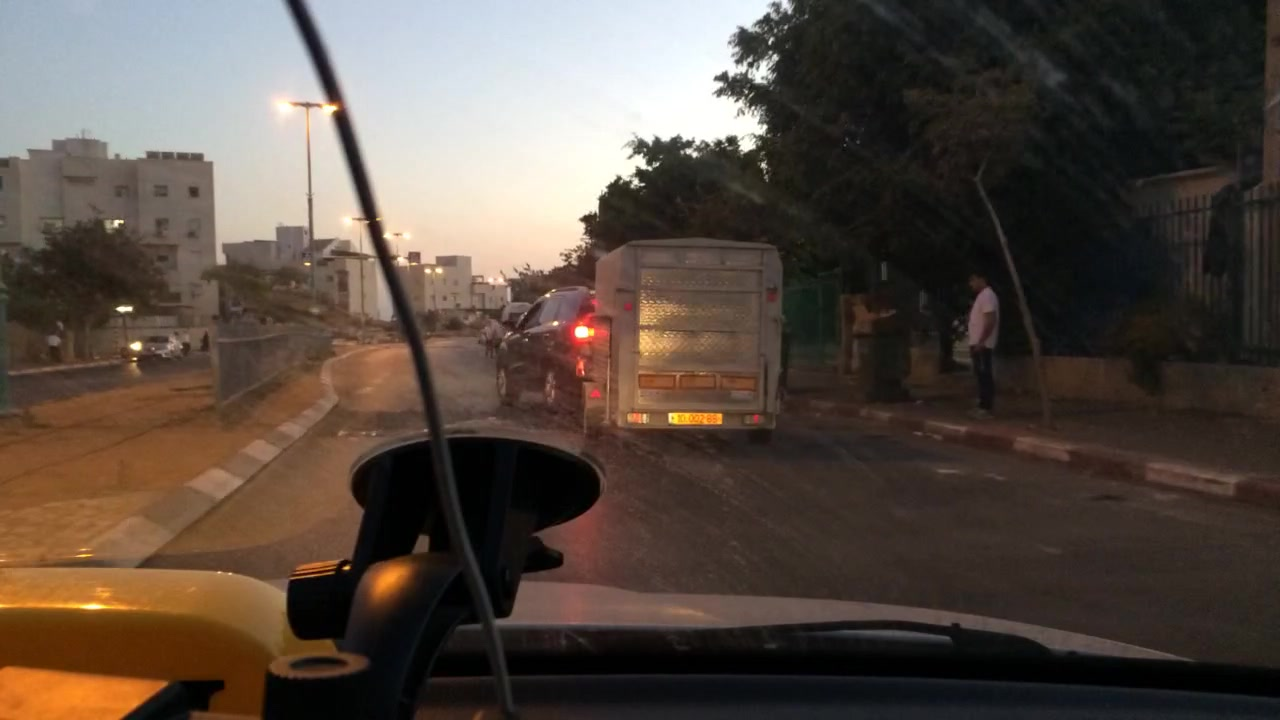licence: (664, 410, 725, 428)
